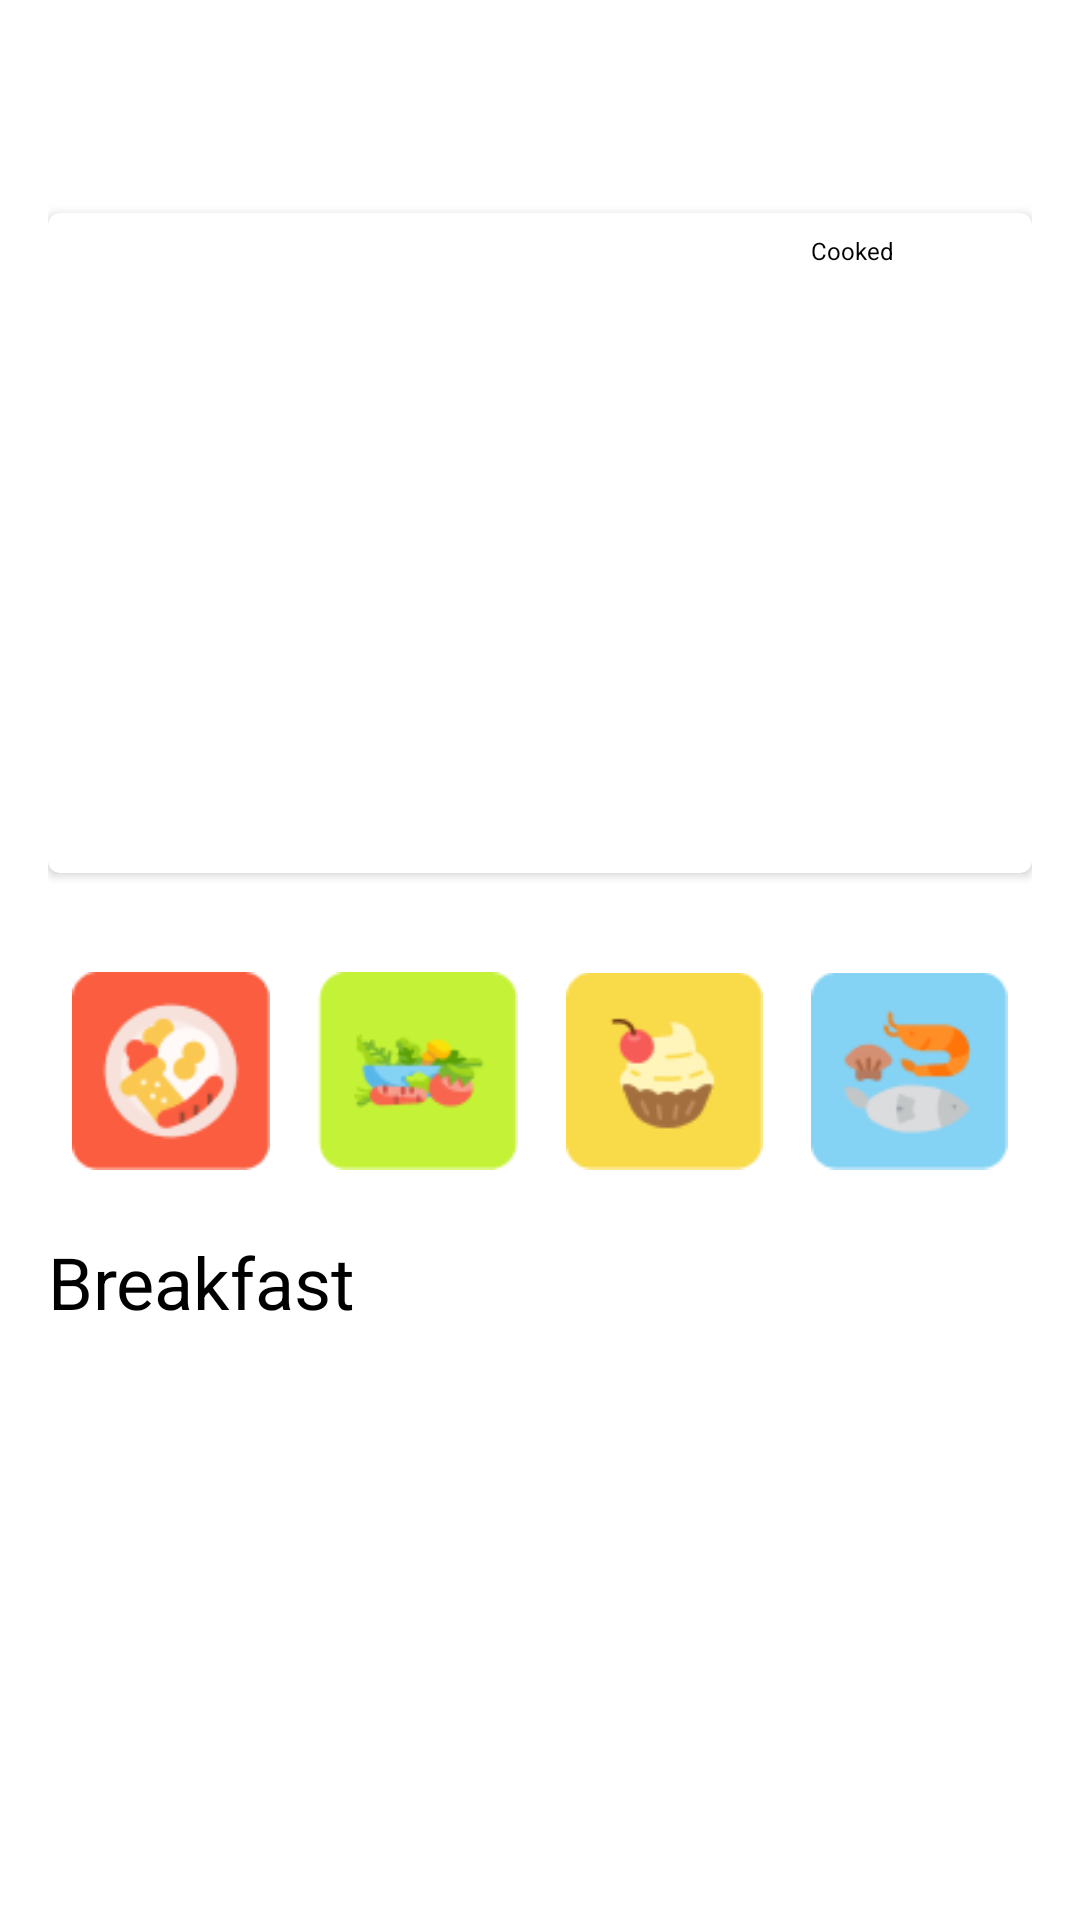

Where icons sit on this 1080 × 1920 app screen, as (x1, y1, x2, y2):
dessert: (566, 973, 763, 1170)
sea food: (811, 973, 1008, 1170)
vegetarian: (318, 972, 518, 1170)
